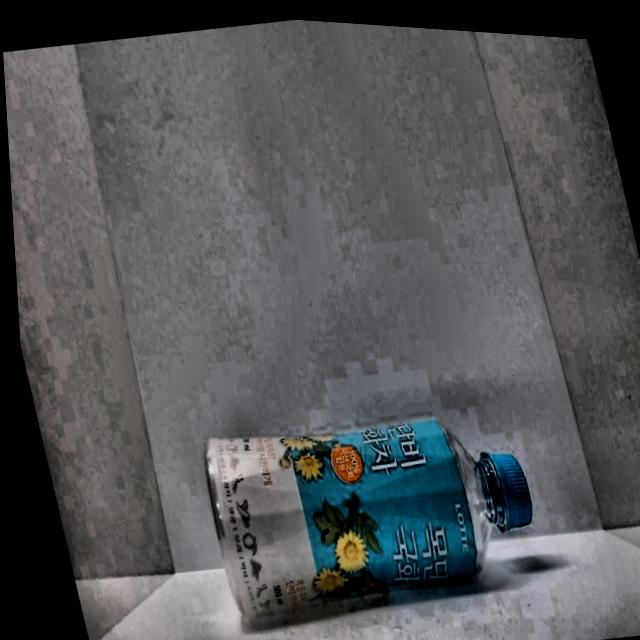Bottles: (182, 364, 557, 640)
